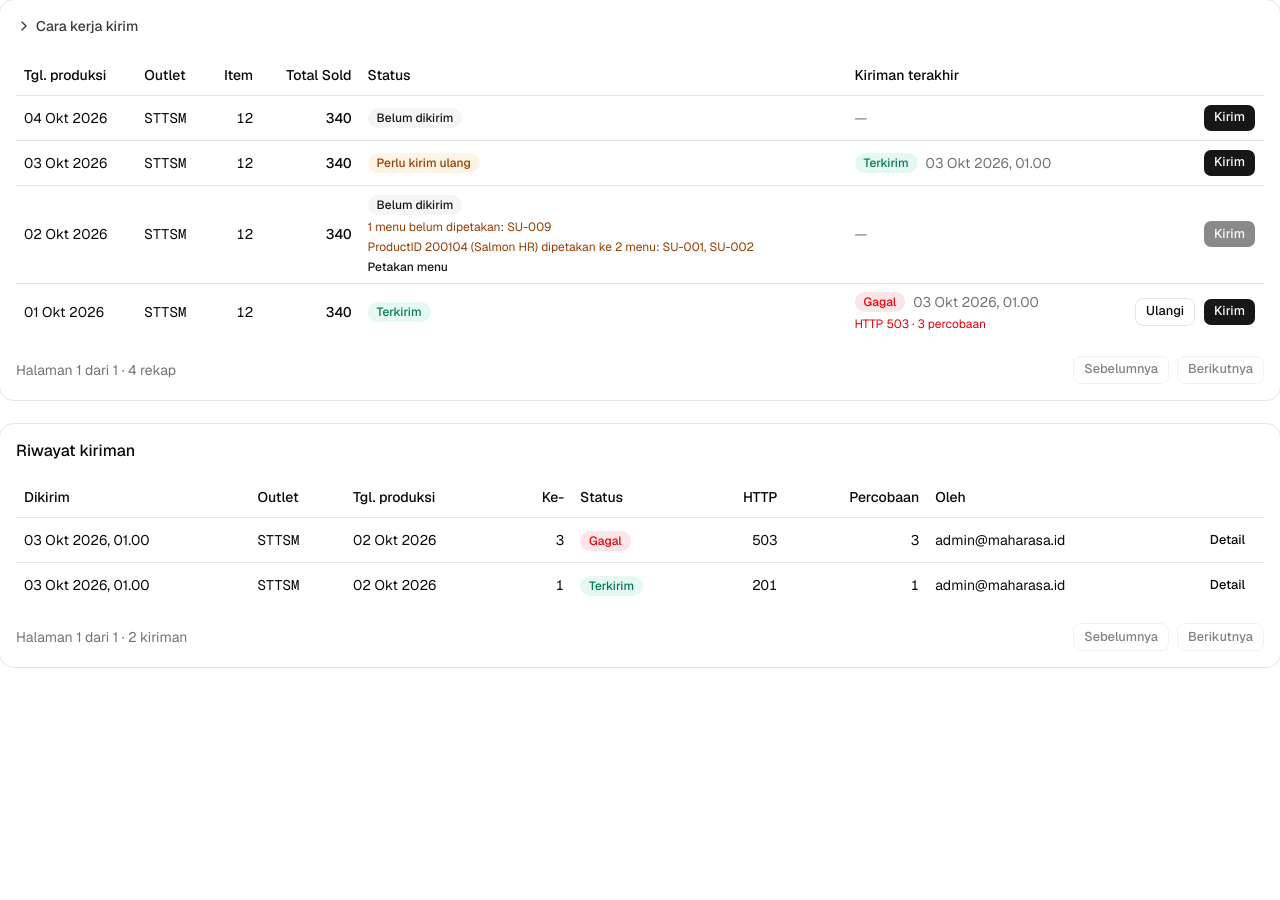
Test: ClosingExportPanel › kirim lewat dialog konfirmasi, lalu status dimuat ulang
The width and height of the screenshot is (1280, 900).
Expected: the table "Status Kirim" is shown, [16,55,1264,340]
Click the button "Kirim" in the row of "04 Okt 2026": [1230, 118] box [1203,104,1256,132]
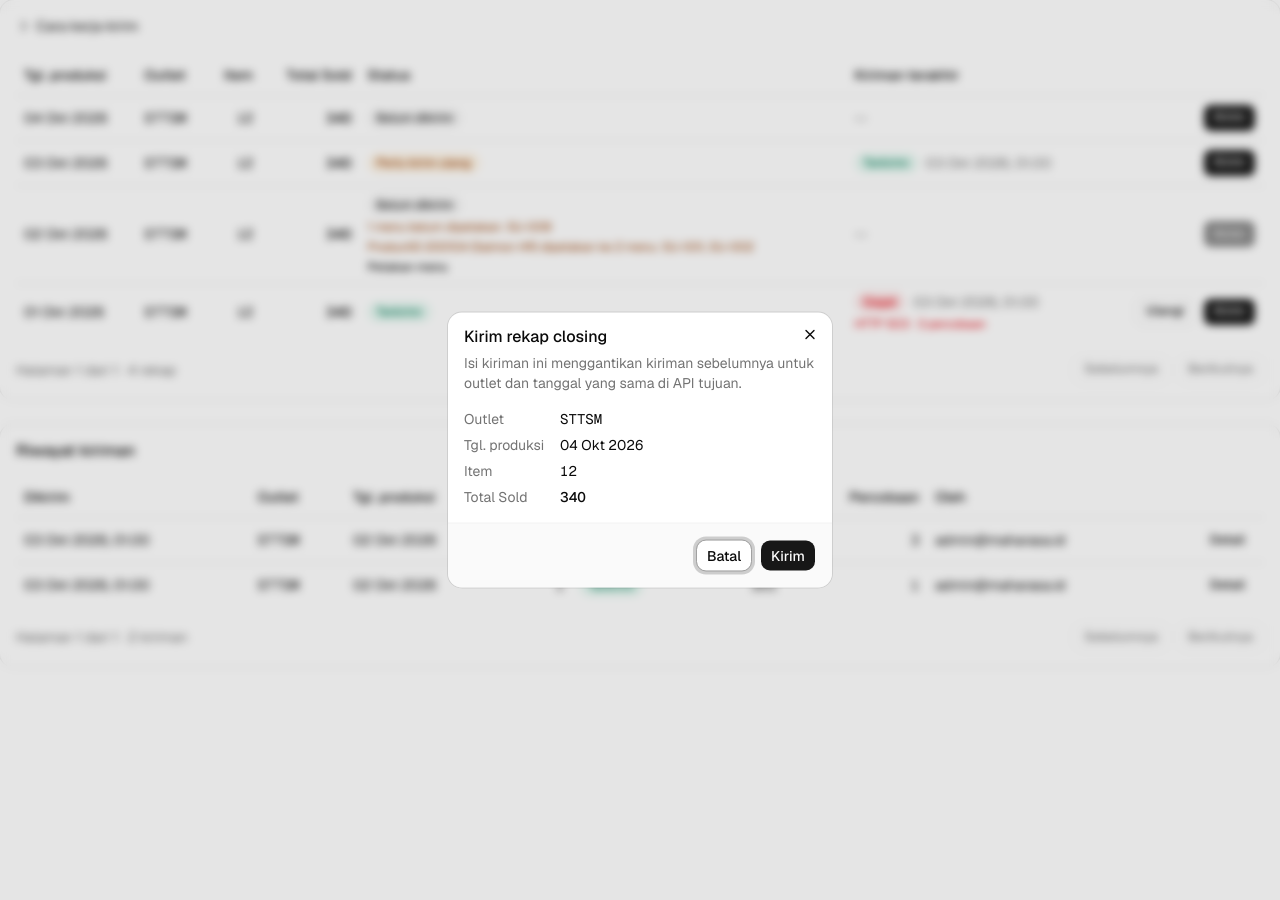
Expected: the text "STTSM" is shown, [560,410,602,428]
Expected: the text "04 Okt 2026" is shown, [560,436,643,454]
Expected: the text "340" is shown, [560,488,586,506]
Click the button "Kirim": [788, 556] box [760,540,816,572]
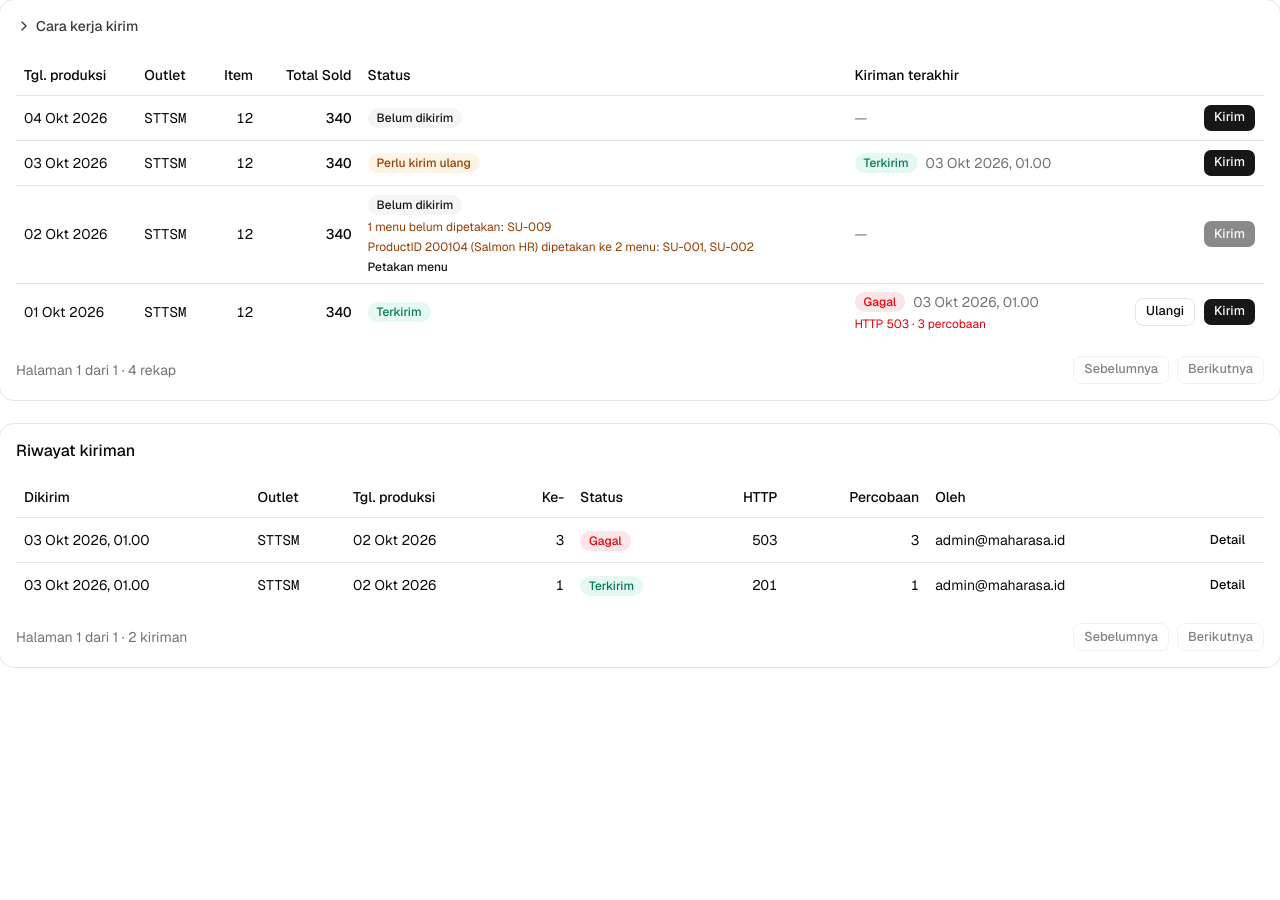
Expected: the dialog is gone
